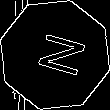N_W: (25, 29, 85, 81)
